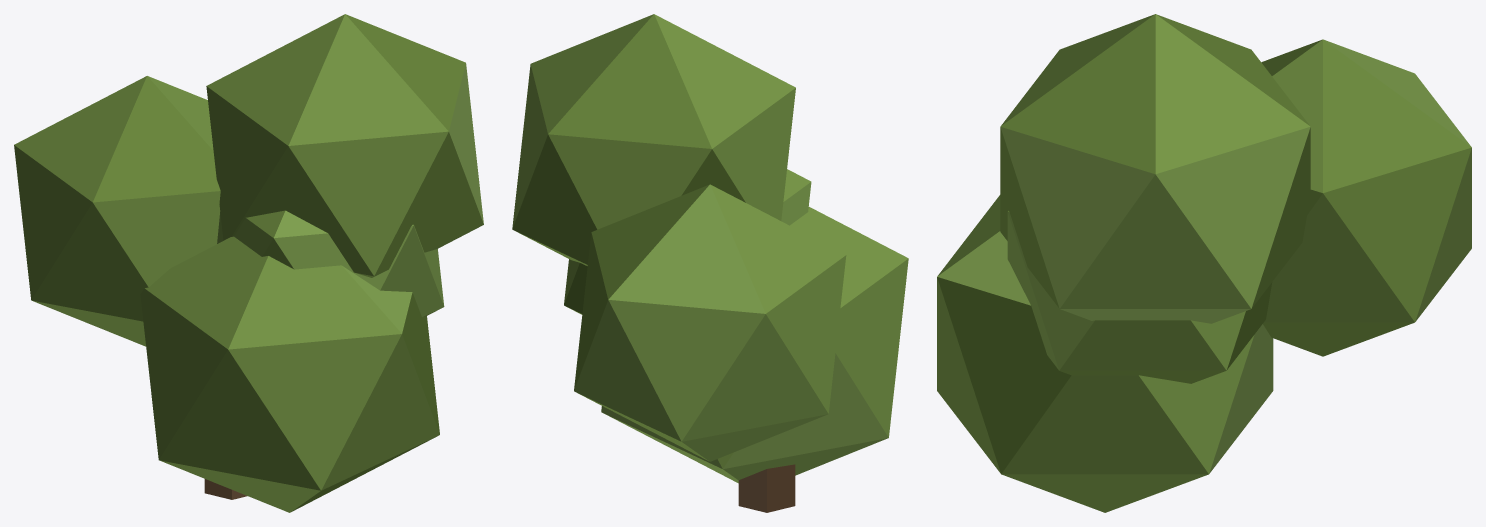
The model's file is WildPlant_b.fbx.
The picture shows the model from 3 angles, left to right: view 1: azimuth 30°, elevation 25°; view 2: azimuth 150°, elevation 25°; view 3: azimuth 270°, elevation 25°; orthographic projection. The views are drawn at different scales.
Parts seen in each view (by area): view 1: WildPlant_b; view 2: WildPlant_b; view 3: WildPlant_b.
Part boxes in pixels (<box>): WildPlant_b: <box>14,14,483,512</box>; WildPlant_b: <box>512,14,908,512</box>; WildPlant_b: <box>937,14,1471,512</box>.
Size of what is drawn, in the model's own units: 0.3952 by 0.4828 by 0.4311.
